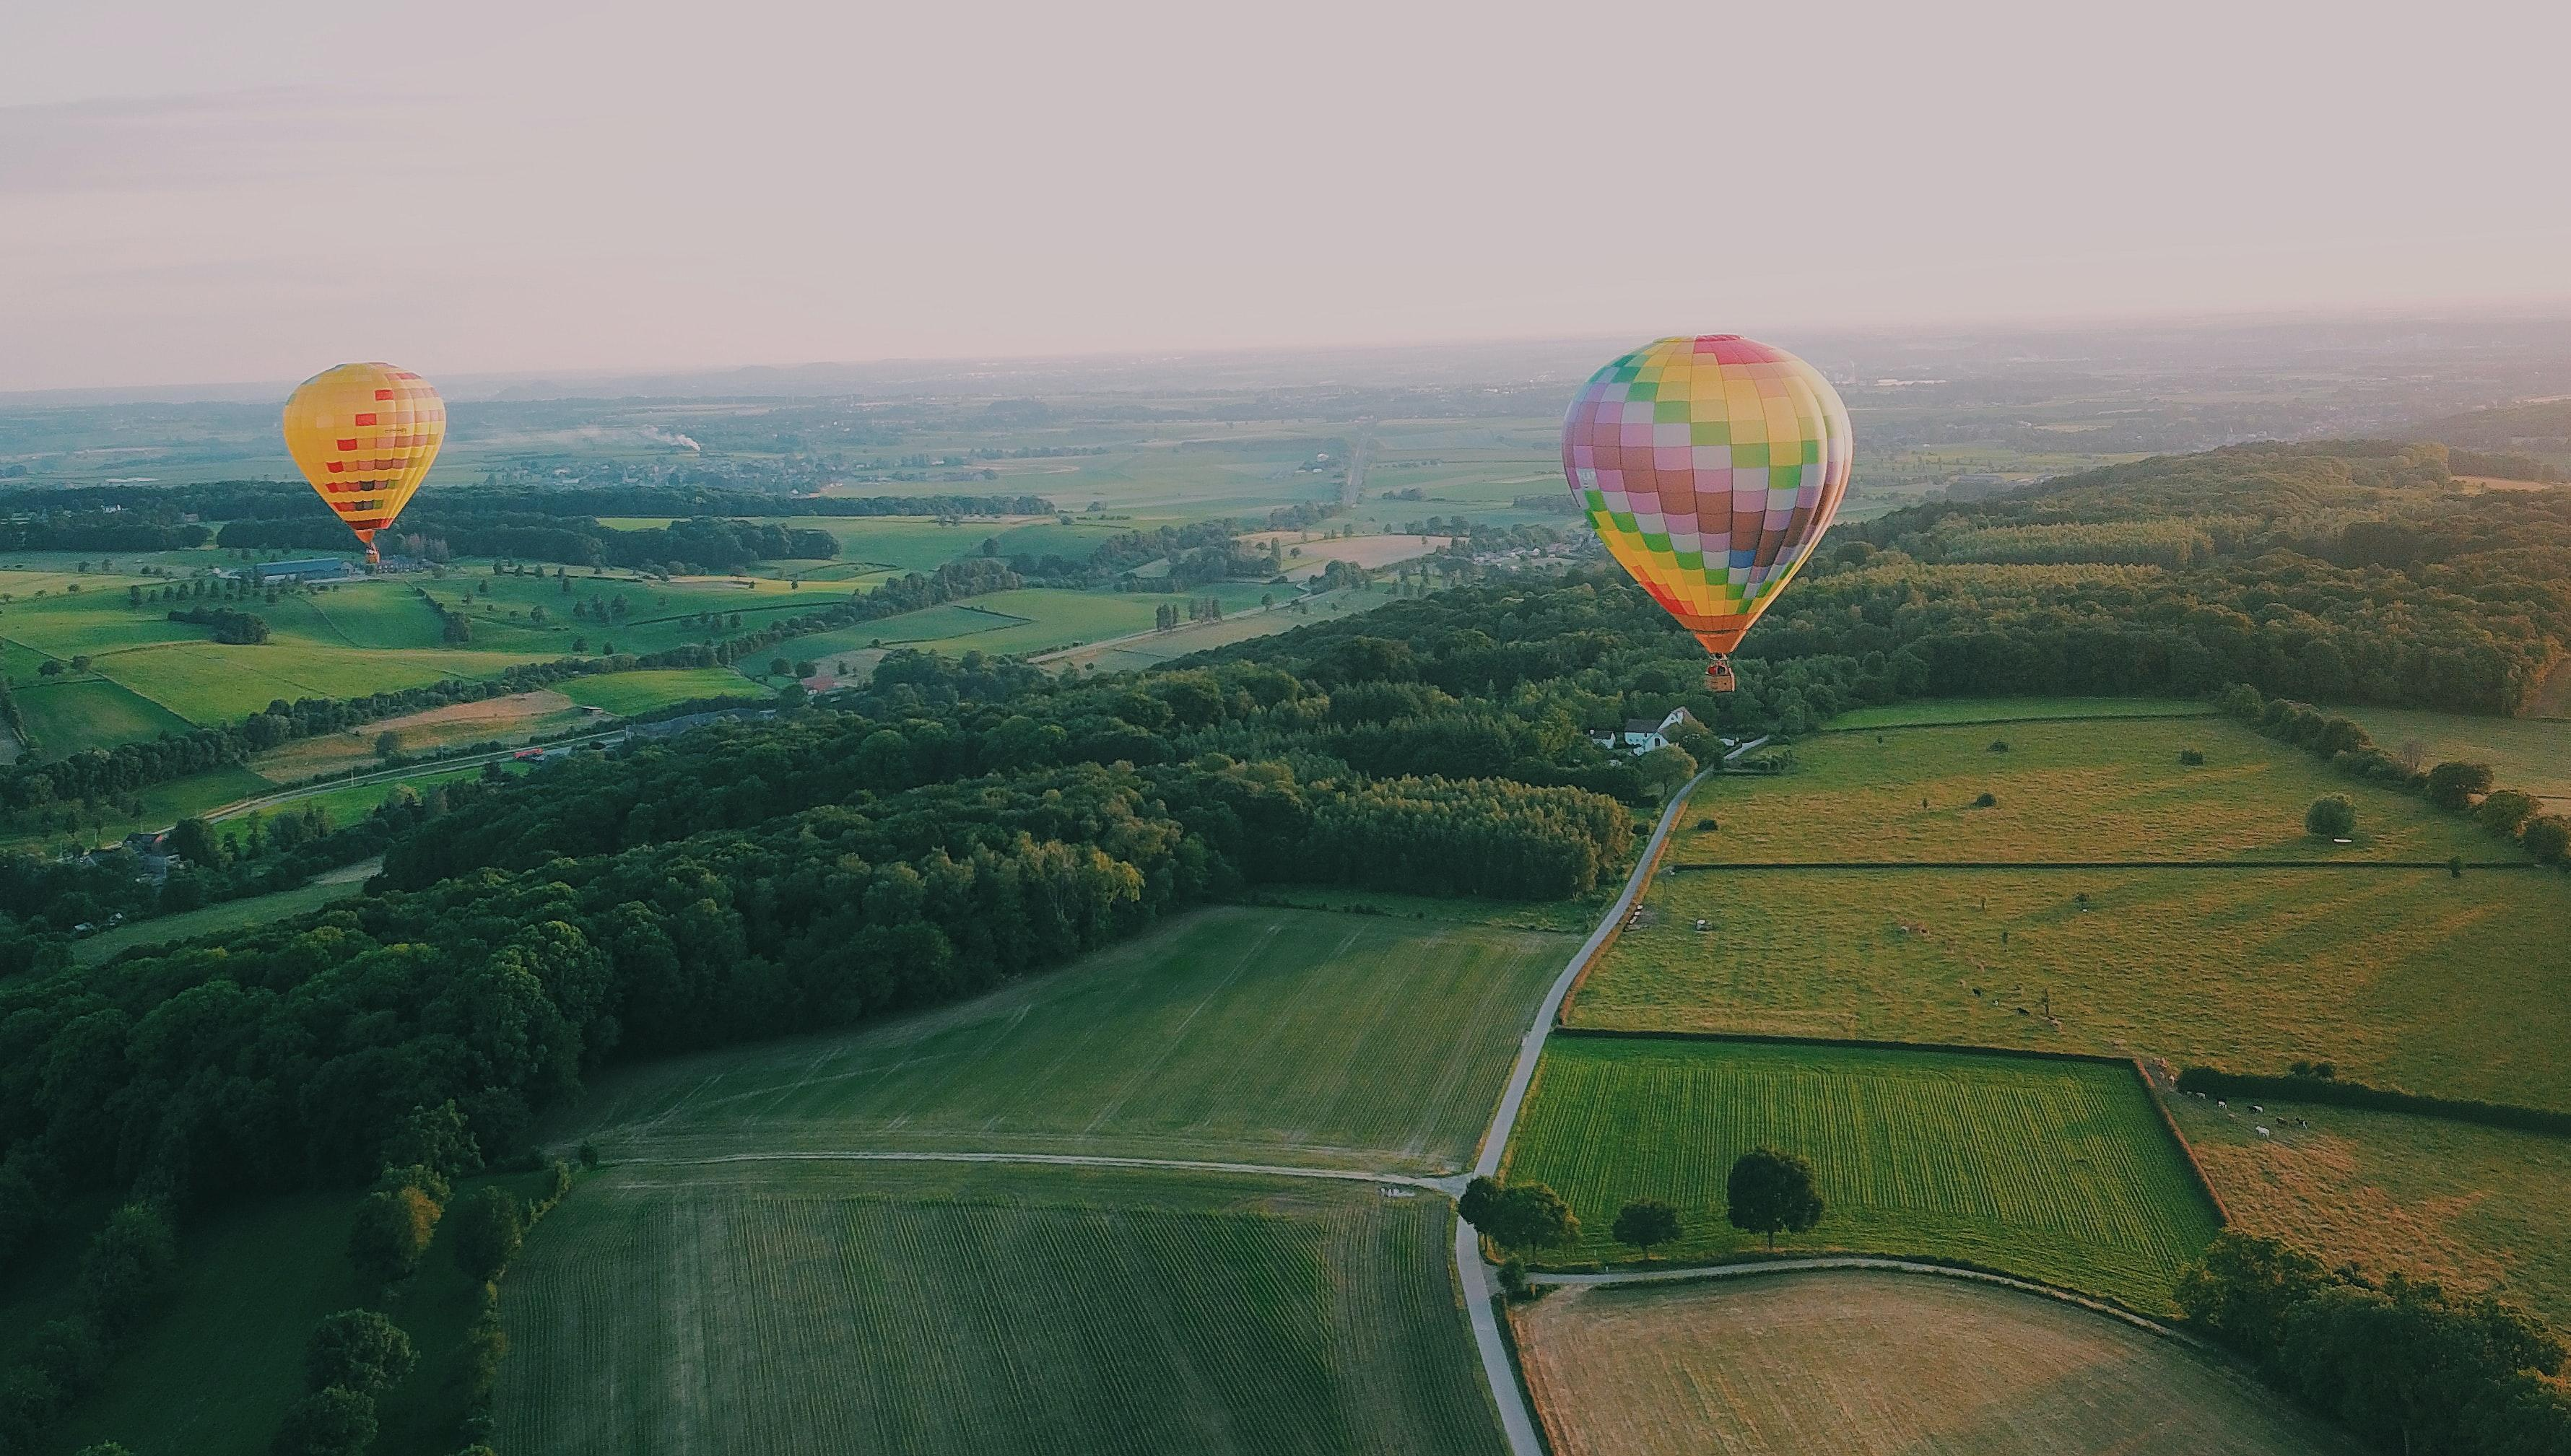hot air ballon: (1561, 335, 1854, 692), (281, 362, 447, 563)
